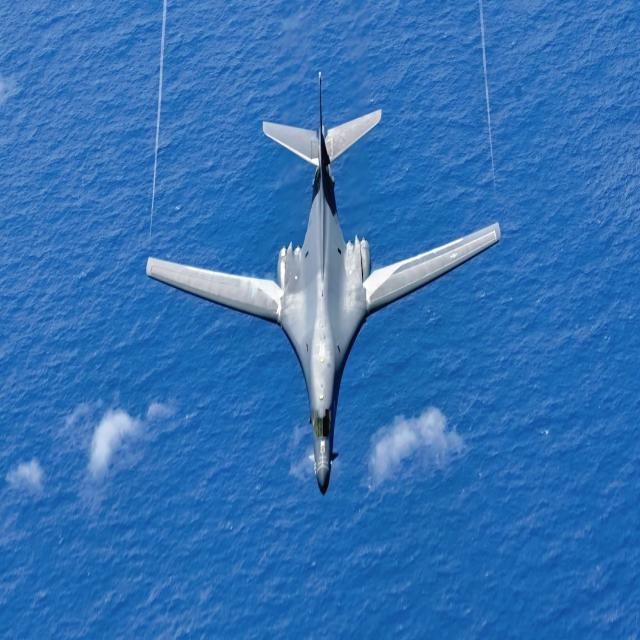B1: (138, 36, 528, 518)
